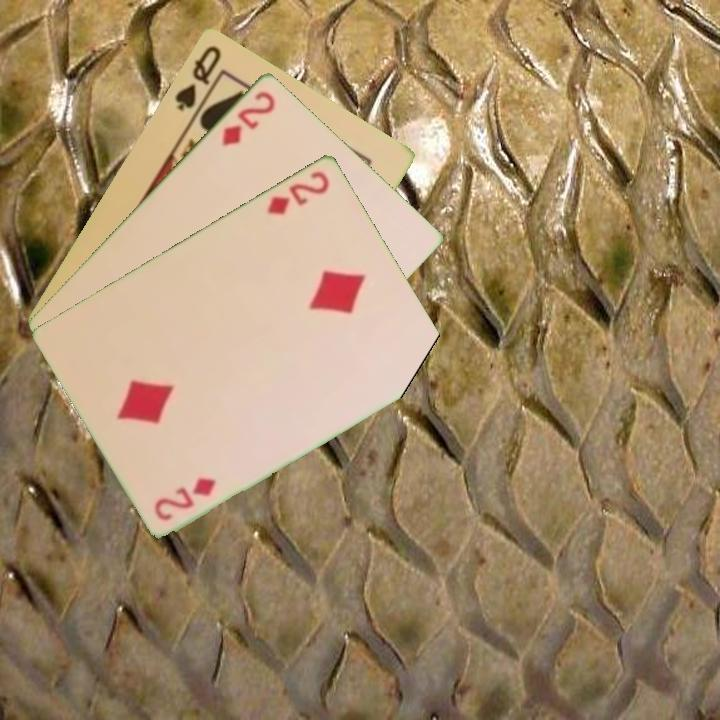2d: (218, 86, 279, 149), (263, 166, 333, 217), (150, 473, 220, 523)
Qs: (171, 41, 224, 114)
